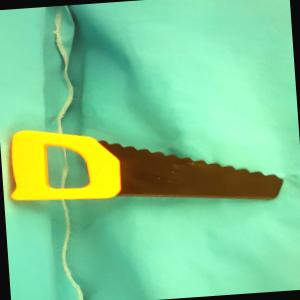serrote: (5, 112, 286, 218)
